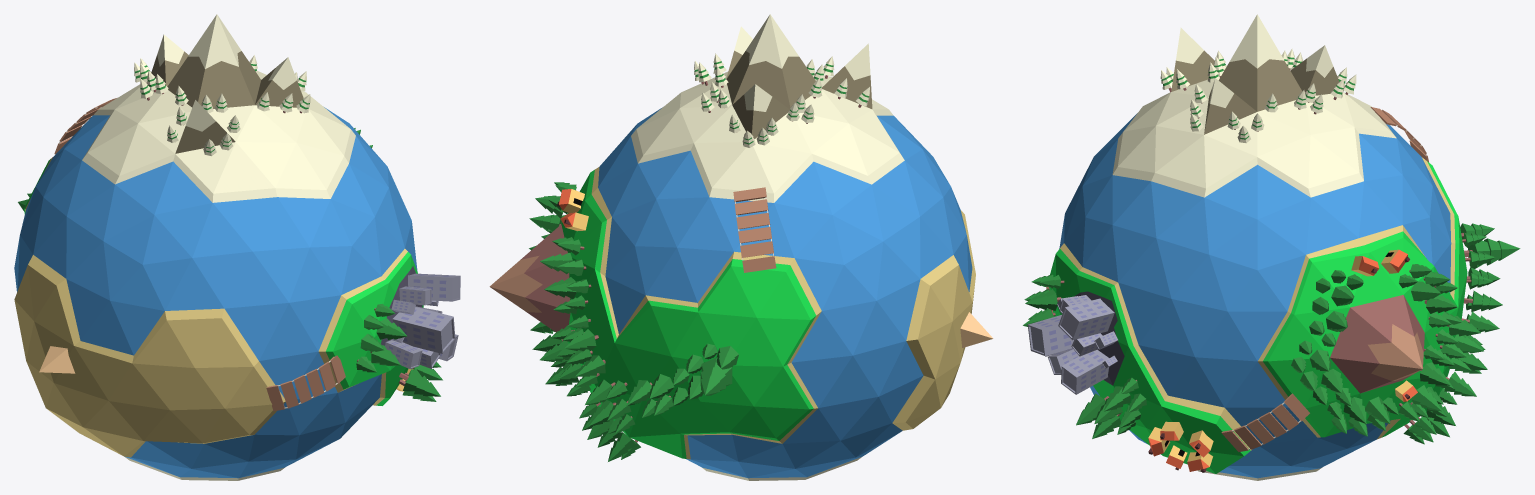
3 renders of one model, left to right at view 1: azimuth 30°, elevation 25°; view 2: azimuth 150°, elevation 25°; view 3: azimuth 270°, elevation 25°, orthographic.
Parts seen in each view (by area): view 1: Planet, Building, Cube.002_Bridge_0, Building.004, Cone.002, Building.007, Cylinder.007, Building.005, Cube_Bridge_0; view 2: Planet, Cube_Bridge_0, Cone.236, Cone.002; view 3: Planet, Cube.001_Bridge_0, Building.004, Building.001, Building, Cone.236, Cube_Bridge_0.
Part boxes in pixels (x1=…): Planet: x1=14, y1=14, x2=423, y2=480; Building: x1=392, y1=307, x2=455, y2=353; Cube.002_Bridge_0: x1=266, y1=355, x2=345, y2=411; Building.004: x1=408, y1=273, x2=460, y2=301; Cone.002: x1=39, y1=346, x2=75, y2=373; Building.007: x1=385, y1=340, x2=422, y2=369; Cylinder.007: x1=399, y1=368, x2=440, y2=396; Building.005: x1=399, y1=286, x2=431, y2=305; Cube_Bridge_0: x1=54, y1=98, x2=116, y2=154; Planet: x1=489, y1=14, x2=975, y2=480; Cube_Bridge_0: x1=733, y1=187, x2=776, y2=272; Cone.236: x1=700, y1=357, x2=732, y2=395; Cone.002: x1=960, y1=312, x2=993, y2=347; Planet: x1=1049, y1=14, x2=1467, y2=480; Cube.001_Bridge_0: x1=1221, y1=393, x2=1309, y2=451; Building.004: x1=1058, y1=298, x2=1114, y2=340; Building.001: x1=1061, y1=349, x2=1109, y2=394; Building: x1=1027, y1=315, x2=1073, y2=355; Cone.236: x1=1464, y1=238, x2=1520, y2=268; Cube_Bridge_0: x1=1370, y1=107, x2=1428, y2=162.
Bounding box in the file's own units: 231 × 245 × 246.
